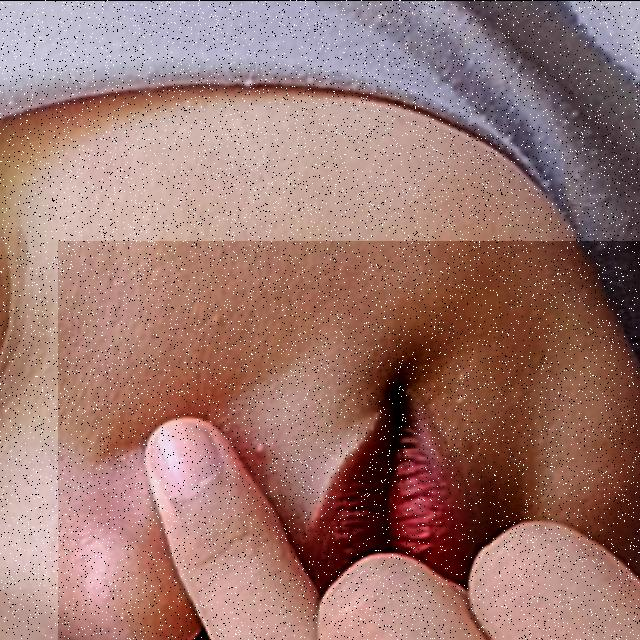bau: (58, 240, 640, 640)
